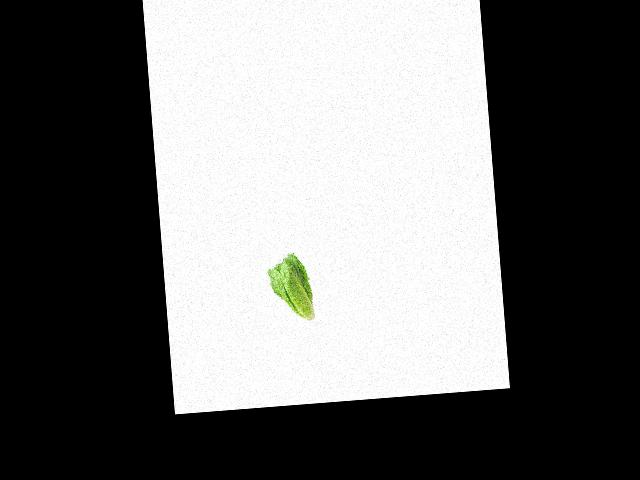lettuce: (265, 251, 316, 330)
